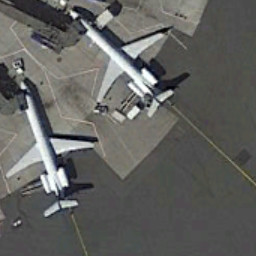Airplane: (60, 4, 180, 125), (3, 74, 99, 220)
